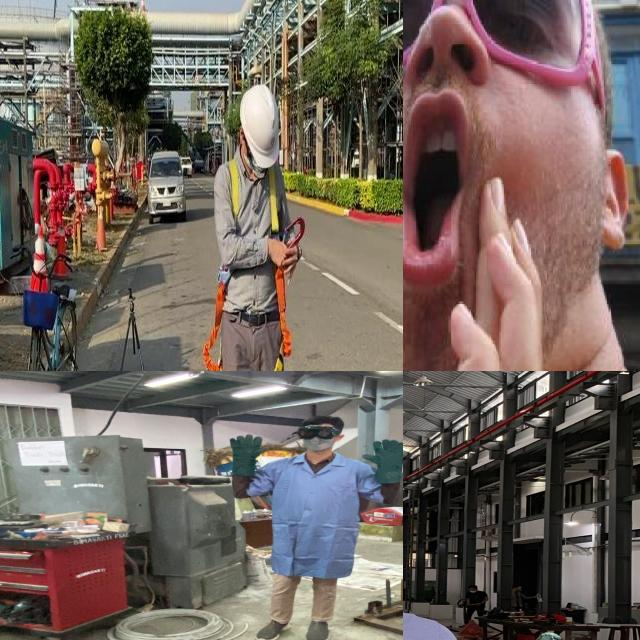Harness: (268, 268, 293, 371), (203, 283, 226, 371)
face_mask: (297, 426, 337, 450)
glasses: (403, 0, 600, 93), (286, 424, 342, 442)
hand_glove: (359, 438, 403, 471), (491, 627, 600, 640), (226, 430, 267, 460)
hand_noglove: (403, 170, 553, 371)
head_nohelmet: (298, 413, 346, 430)
person: (222, 411, 403, 640), (403, 512, 601, 640)
shoes: (247, 614, 295, 640), (300, 615, 332, 640)
